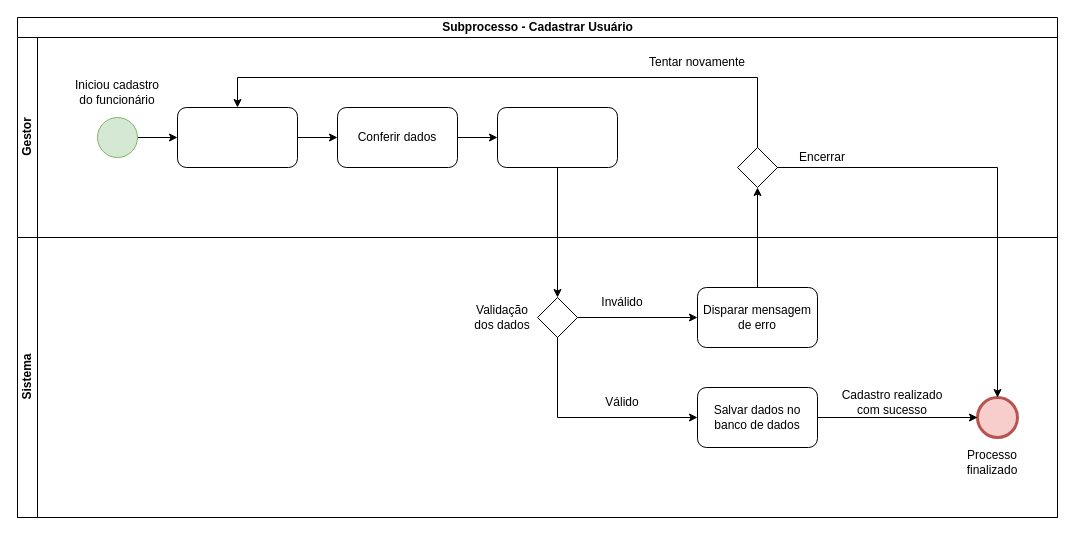
The diagram is 1075 pixels wide and 535 high, and some of its shapes have lost their labels. Each missing label, with the centre of its shape:
Apertar o botão de confirmar: point 557,137
Inserir dados: point 237,137
